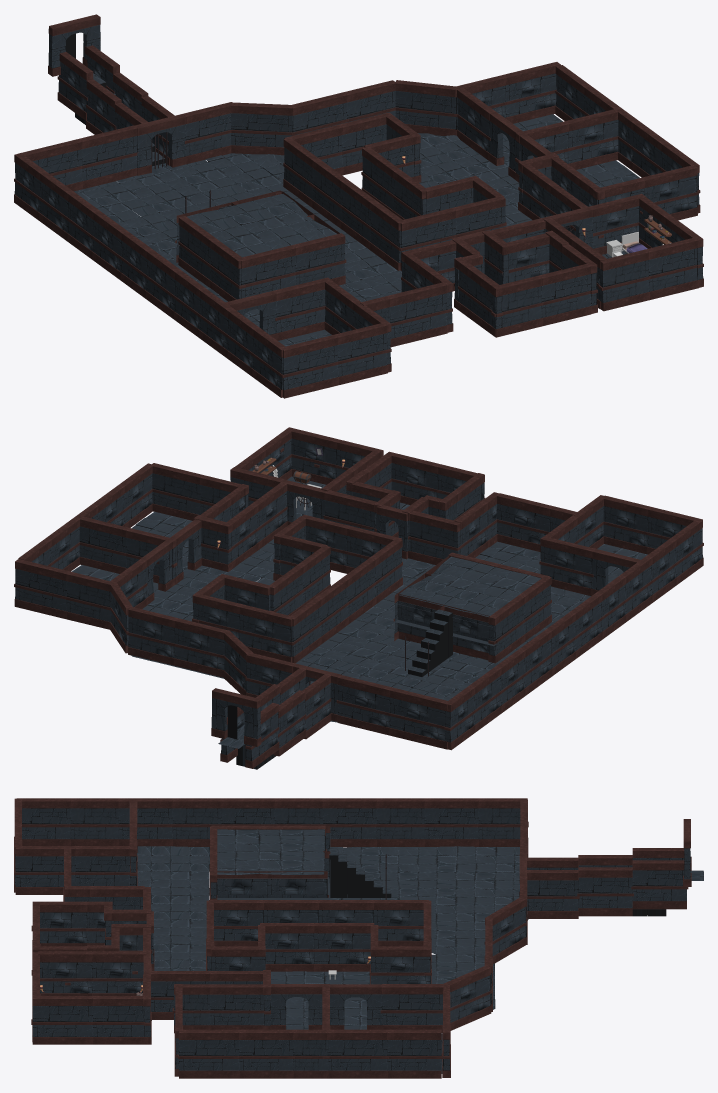
The model's file is Blocagem.fbx.
The picture shows the model from 3 angles, top to bottom: view 1: azimuth 30°, elevation 25°; view 2: azimuth 150°, elevation 25°; view 3: azimuth 270°, elevation 25°; orthographic projection. The views are drawn at different scales.
Parts seen in each view (by area): view 1: Cube.003, Plane.025; view 2: Cube.003, Plane.025, Plane.027, Plane.026; view 3: Cube.003, Plane.025, Plane.027.
Boxes of the visible parts, box(x1,y1,x2,y2) form: Cube.003: box(14, 14, 703, 398); Plane.025: box(74, 114, 639, 346); Cube.003: box(14, 427, 703, 768); Plane.025: box(71, 476, 647, 722); Plane.027: box(408, 609, 452, 676); Plane.026: box(218, 705, 275, 769); Cube.003: box(14, 798, 691, 1078); Plane.025: box(137, 829, 528, 1073); Plane.027: box(329, 848, 391, 897).
Bounding box in the file's own units: 16281 × 2793 × 20188.
